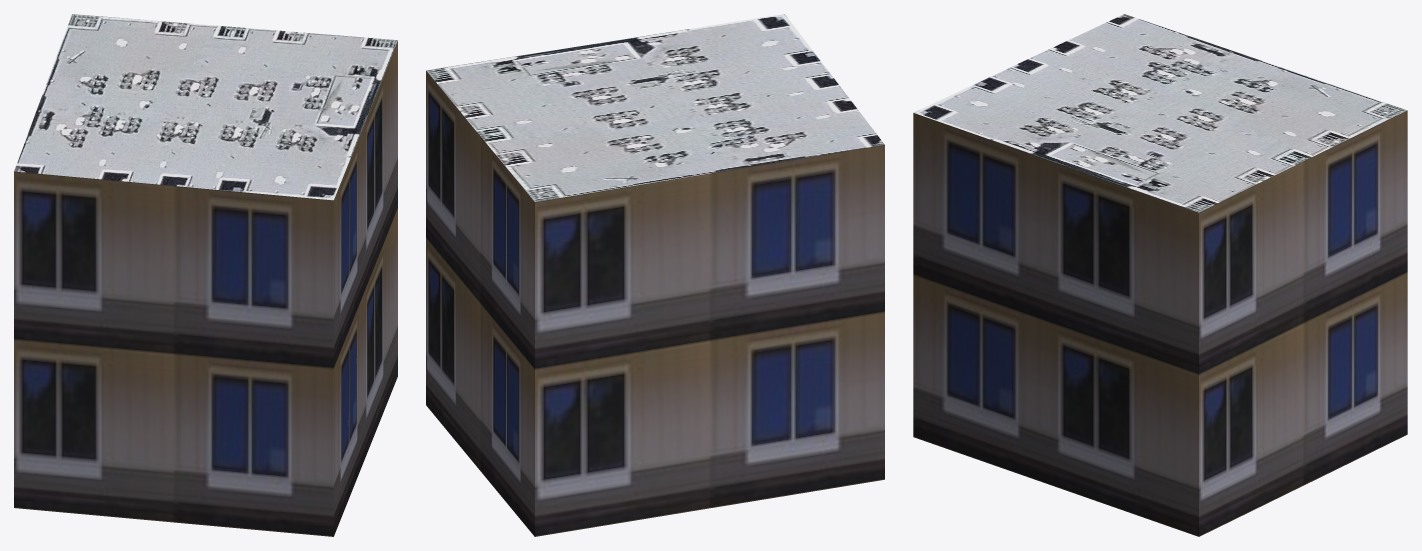
The model's file is ResTex__221.fbx.
3 renders of one model, left to right at view 1: azimuth 30°, elevation 25°; view 2: azimuth 150°, elevation 25°; view 3: azimuth 270°, elevation 25°, orthographic. The views are drawn at different scales.
Visible parts, largest first — view 1: CityEngineMaterial_5_m, CityEngineMaterial_m; view 2: CityEngineMaterial_5_m, CityEngineMaterial_m; view 3: CityEngineMaterial_5_m, CityEngineMaterial_m.
Part boxes in pixels (bbox=[...]): CityEngineMaterial_5_m: bbox=[14, 40, 397, 536]; CityEngineMaterial_m: bbox=[14, 14, 397, 200]; CityEngineMaterial_5_m: bbox=[426, 71, 884, 536]; CityEngineMaterial_m: bbox=[426, 14, 884, 201]; CityEngineMaterial_5_m: bbox=[913, 110, 1407, 536]; CityEngineMaterial_m: bbox=[913, 14, 1406, 212].
Bounding box in the file's own units: 7.88 × 6 × 8.29.
Materials: 2 (2 with a texture image).
